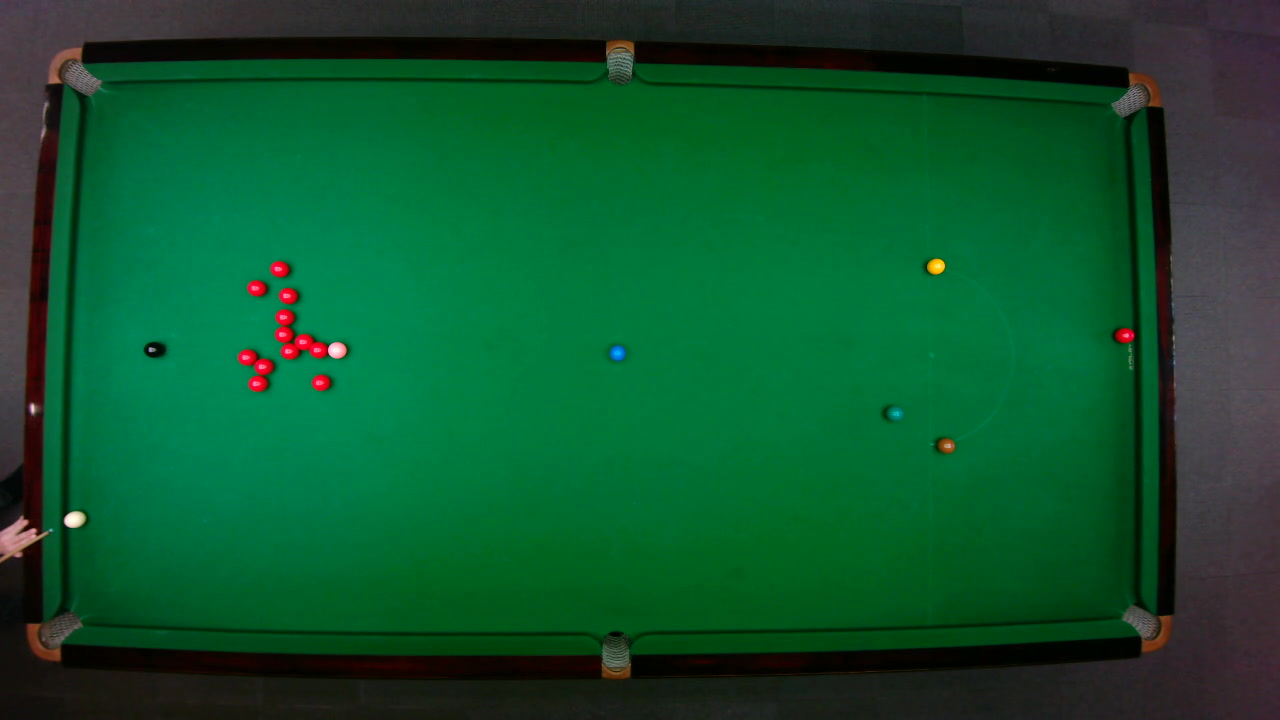bag: (25, 609, 84, 661), (46, 46, 102, 96), (1119, 603, 1171, 652), (1108, 71, 1162, 118), (600, 629, 629, 680), (605, 38, 633, 85)
black: (142, 340, 163, 357)
blue: (608, 343, 626, 361)
brown: (936, 436, 956, 453)
cue: (0, 527, 55, 566)
green: (883, 404, 904, 421)
pink: (326, 340, 348, 359)
red: (252, 356, 274, 375), (236, 347, 258, 366), (292, 332, 314, 350), (245, 278, 267, 296), (246, 374, 268, 392), (269, 259, 290, 277), (277, 286, 298, 304), (273, 307, 294, 325), (310, 373, 331, 391), (1113, 326, 1135, 343), (272, 325, 293, 342), (279, 342, 300, 359), (308, 340, 327, 358)
white: (62, 508, 87, 528)
yellow: (925, 256, 946, 275)
zone: (927, 265, 1013, 445)
